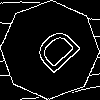D: (25, 25, 83, 83)
